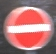No entry: (5, 5, 51, 49)
